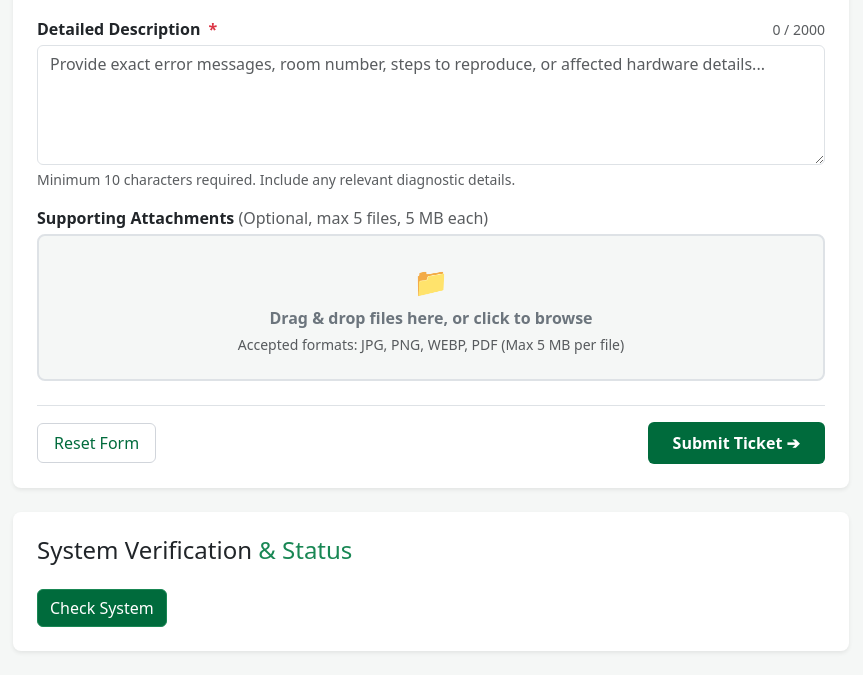
Test: Feature 7 / Feature 3: Create Ticket Form & Validation Component Tests › UI-TKT-03: Clicking Submit with empty required fields halts submission and displays inline errors
The width and height of the screenshot is (863, 675).
(page scrolled)
Click the button "Submit Ticket ➔": (736,443) [648,422,825,464]
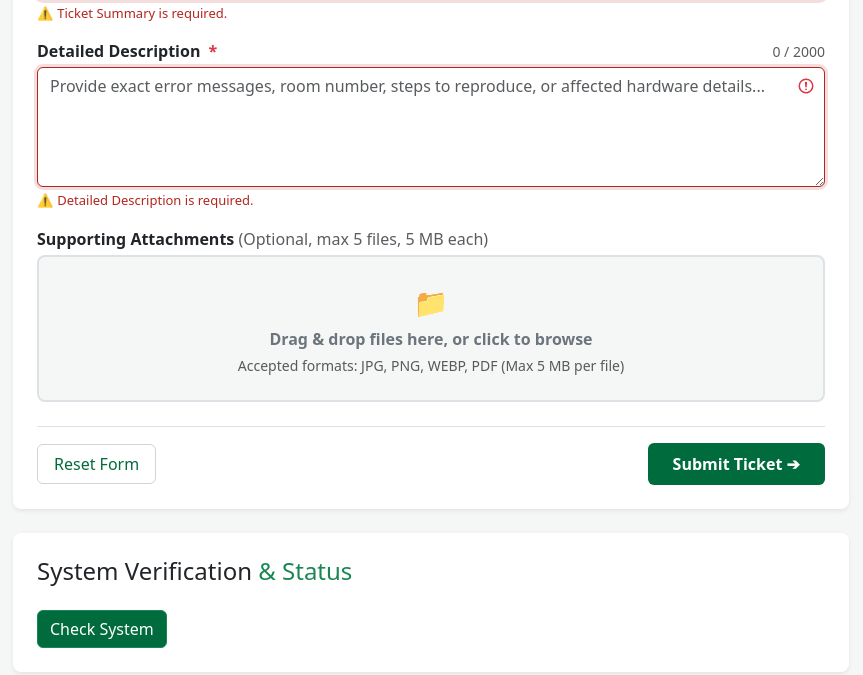
Check: the text "⚠️ Ticket Summary is required." is shown, box [37,4,227,22]
Check: the text "⚠️ Detailed Description is required." is shown, box [37,191,254,209]
